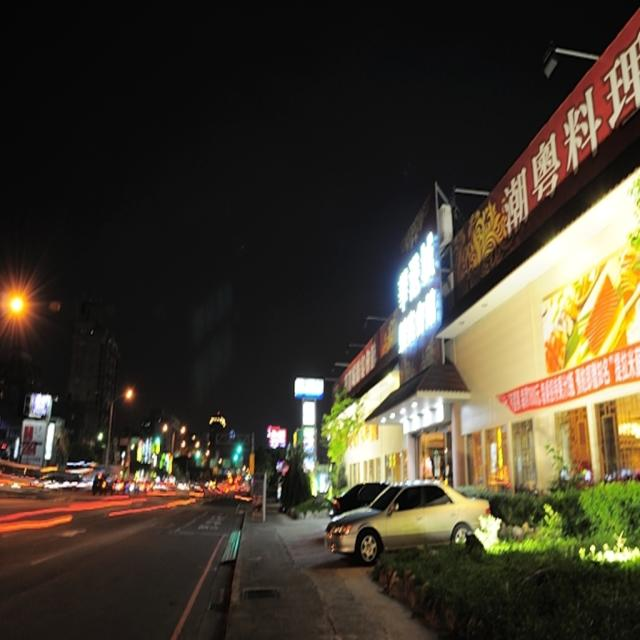car: (323, 476, 497, 567)
